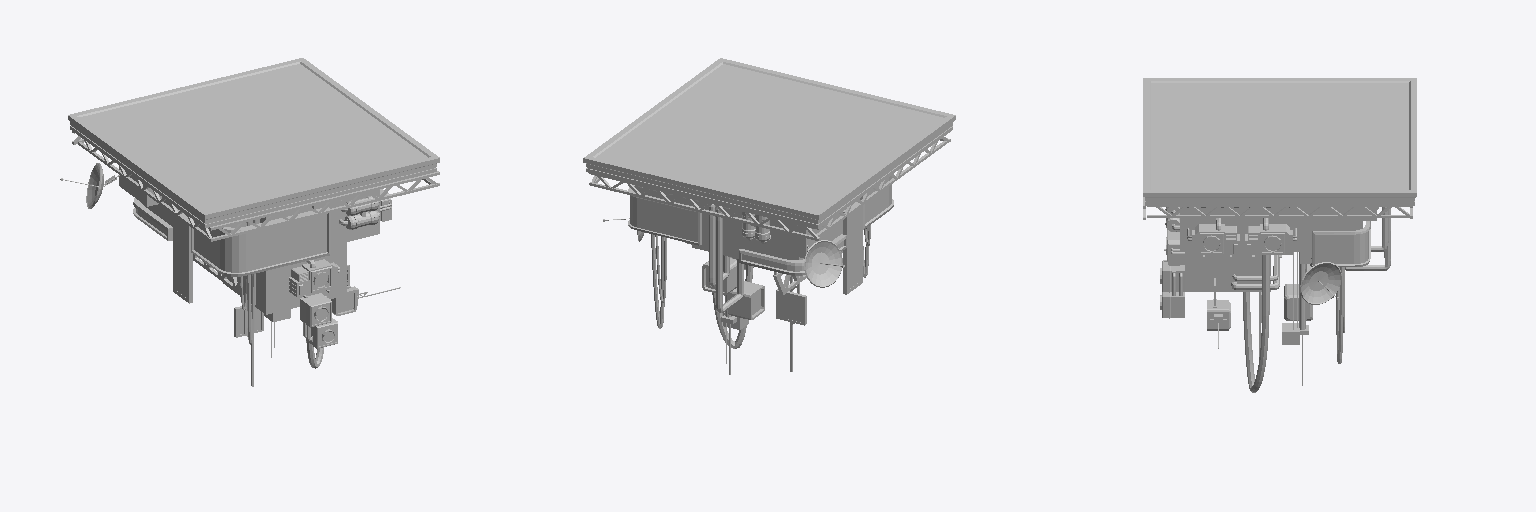
Rendered from Platform_4x4_Cube_099.obj.
The picture shows the model from 3 angles: view 1: azimuth 30°, elevation 25°; view 2: azimuth 150°, elevation 25°; view 3: azimuth 270°, elevation 25°; orthographic projection.
Parts seen in each view (by area): view 1: Platform_4x4_Cube.099; view 2: Platform_4x4_Cube.099; view 3: Platform_4x4_Cube.099.
Boxes of the visible parts, <box> form: Platform_4x4_Cube.099: <box>60,58,439,386</box>; Platform_4x4_Cube.099: <box>583,58,955,374</box>; Platform_4x4_Cube.099: <box>1143,78,1416,392</box>.
Size of the model in its own units: 4.47 by 3.76 by 3.9.